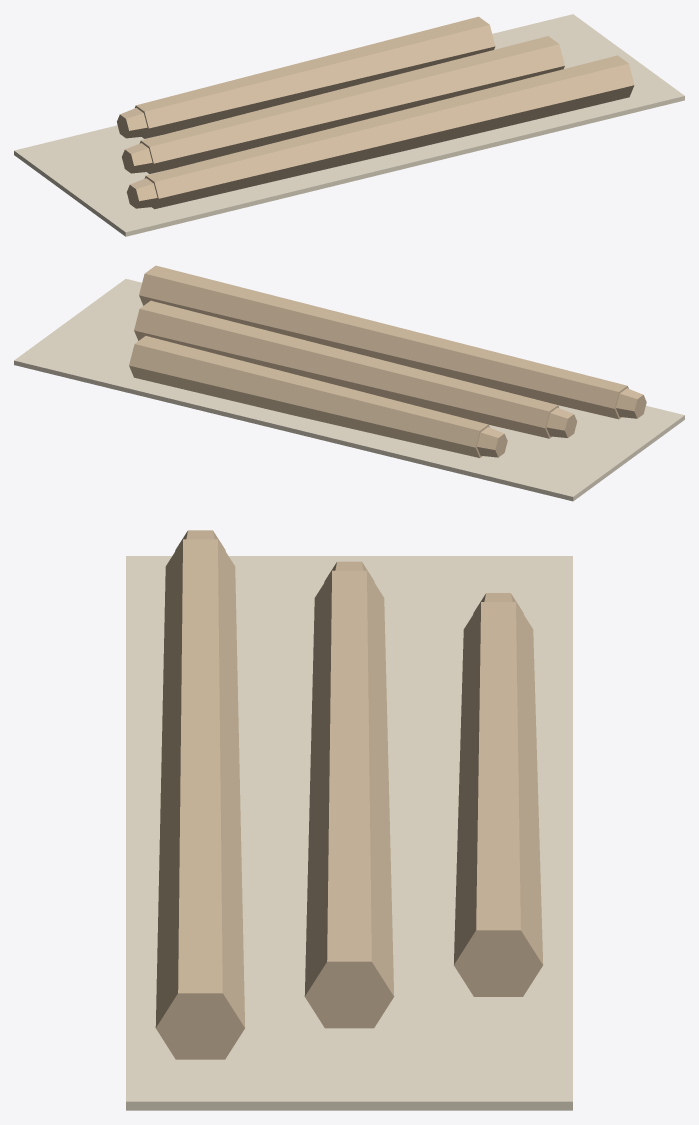
Rendered from prop-handle-blank-brm1.fbx.
3 views of the same model, one above another, from view 1: azimuth 30°, elevation 25°; view 2: azimuth 150°, elevation 25°; view 3: azimuth 270°, elevation 25° (orthographic). The views are drawn at different scales.
Parts seen in each view (by area): view 1: prop-handle-blank-brm1; view 2: prop-handle-blank-brm1; view 3: prop-handle-blank-brm1.
Boxes of the visible parts, bbox=[...] form: prop-handle-blank-brm1: bbox=[14, 14, 684, 236]; prop-handle-blank-brm1: bbox=[14, 265, 684, 501]; prop-handle-blank-brm1: bbox=[126, 530, 572, 1110].
Size of the model in its own units: 26 by 1.68 by 9.
